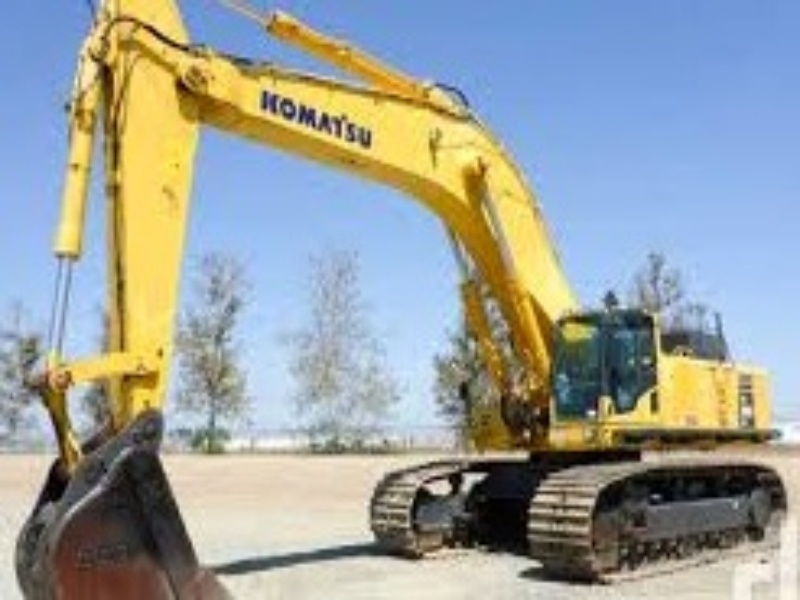wajueji: (371, 255, 791, 600)
